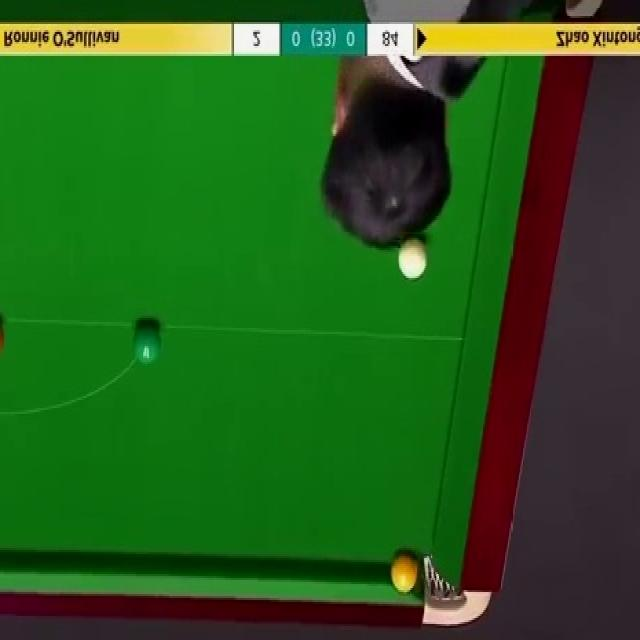green-ball: (132, 320, 162, 366)
white-ball: (398, 236, 431, 282)
yellow-ball: (391, 551, 420, 592)
